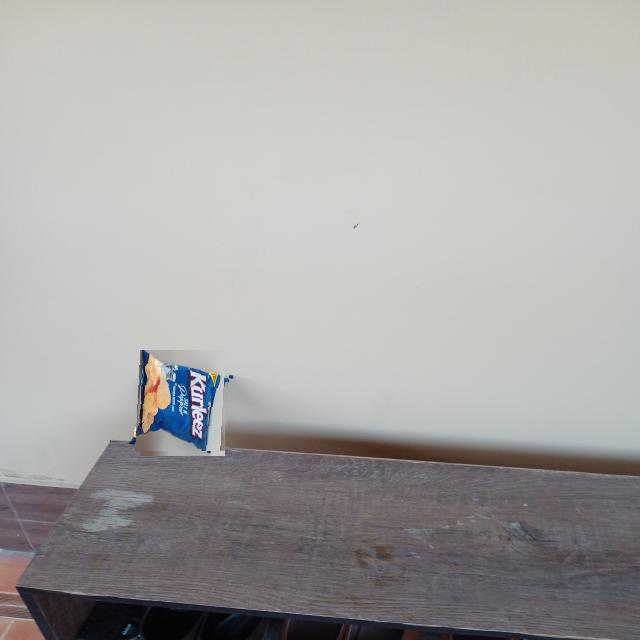Plastic: (134, 355, 230, 451)
